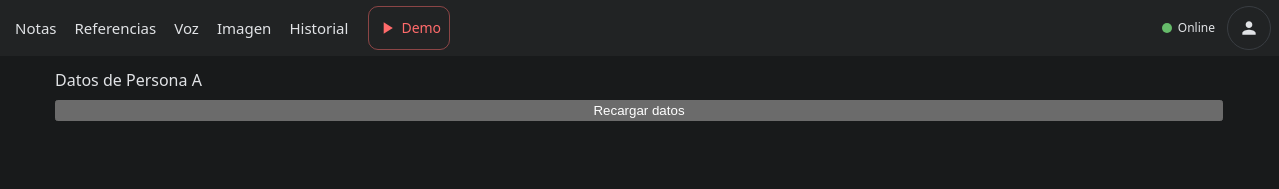
Sesión en el shell › muestra el estado de carga y después el menú con el nombre, Datos y Cerrar sesión
Later steps or results of the test are not shown.
Expected: the text "Datos de Persona A" is shown, [55,69,202,91]
Expected: the button "Cerrar sesión" is not shown
Click the button named "Cuenta de " at (1249, 28), box [1227,6,1271,50]
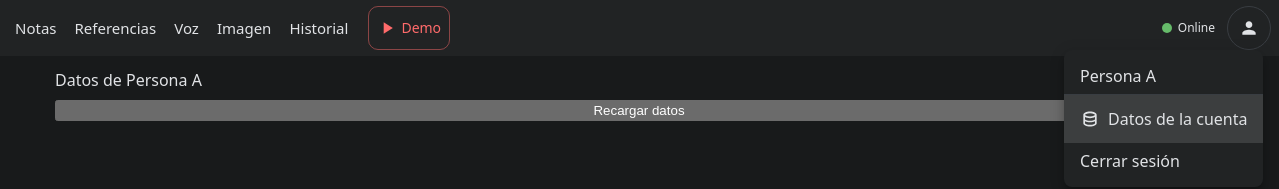
Result: the menu item "Cerrar sesión" is shown at [1080,150,1180,172]
Result: the menu items read "Persona A", "Datos de la cuenta", "Cerrar sesión", in this order at [1064,58,1264,95]; [1064,95,1264,143]; [1080,150,1180,172]
